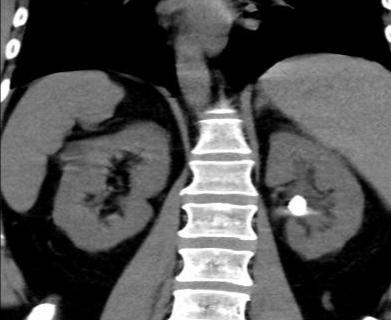Tas_Var: (282, 191, 312, 220)
